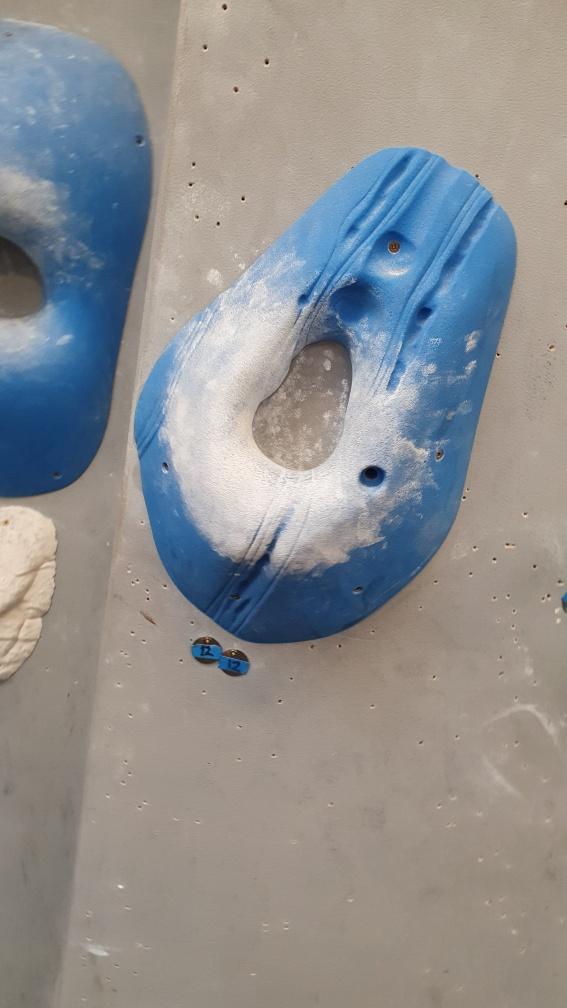Hand Start: (188, 632, 222, 667), (221, 649, 253, 680)
Pocket: (131, 145, 519, 648), (1, 18, 156, 502)
